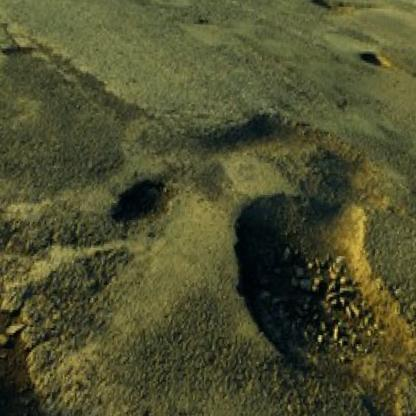pothole: (225, 184, 416, 397), (199, 107, 390, 190), (110, 178, 175, 238), (310, 0, 356, 19), (359, 49, 391, 69), (198, 17, 210, 25)
